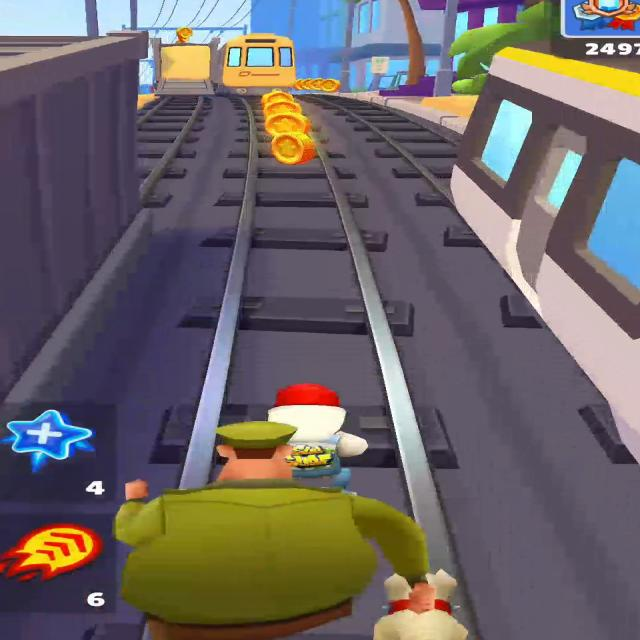climber: (156, 43, 214, 95)
police: (114, 421, 429, 640)
train: (451, 40, 639, 463), (0, 32, 146, 399), (215, 33, 297, 95)
